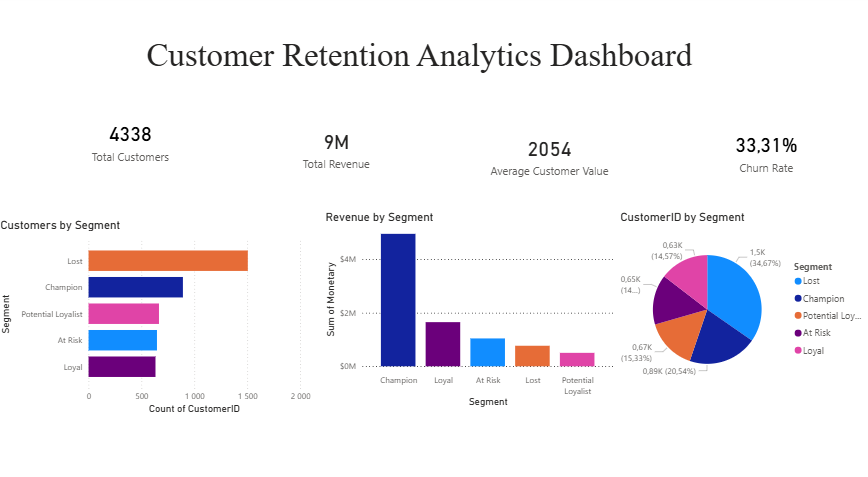

This screenshot's page, from the dashboard's own definition file:
{"tool":"powerbi","page":{"name":"Page 1","canvas":[1280,720],"ordinal":0},"visuals":[{"type":"card","fields":{"Values":["customer_segments.Total Customers"]},"box":[0,100,390,226.7],"z":0},{"type":"card","fields":{"Values":["customer_segments.Average Customer Value"]},"box":[621.7,120,365,206.7],"z":1000},{"type":"card","fields":{"Values":["customer_segments.Churn Rate"]},"box":[971.7,130,308.3,196.7],"z":2000},{"type":"card","fields":{"Values":["retail_transactions_clean.Total Revenue"]},"box":[325,120,343.3,206.7],"z":3000},{"type":"textbox","box":[213.3,55,983.3,90],"z":4000},{"type":"clusteredBarChart","title":"Customers by Segment","fields":{"Y":["CountNonNull(customer_segments.CustomerID)"],"Category":["customer_segments.Segment"]},"box":[0,318.3,463.3,291.7],"z":5000},{"type":"clusteredColumnChart","title":"Revenue by Segment","fields":{"Category":["customer_segments.Segment"],"Y":["Sum(customer_segments.Monetary)"]},"box":[475,328.3,431.7,291.7],"z":6000},{"type":"pieChart","title":"CustomerID by Segment","fields":{"Category":["customer_segments.Segment"],"Y":["CountNonNull(customer_segments.CustomerID)"]},"box":[906.7,328.3,373.3,271.7],"z":7000}]}

Visuals, with their boxes in screenshot pixels (x1, y1, x2, y2), scaled from the page's 1280x720 canvas onto the 868x477 screenshot:
card - customer_segments.Total Customers: 0, 66, 264, 216
card - customer_segments.Average Customer Value: 422, 80, 669, 216
card - customer_segments.Churn Rate: 659, 86, 867, 216
card - retail_transactions_clean.Total Revenue: 220, 80, 453, 216
textbox: 145, 36, 811, 96
"Customers by Segment" clusteredBarChart: 0, 211, 314, 404
"Revenue by Segment" clusteredColumnChart: 322, 217, 615, 411
"CustomerID by Segment" pieChart: 615, 217, 867, 398
